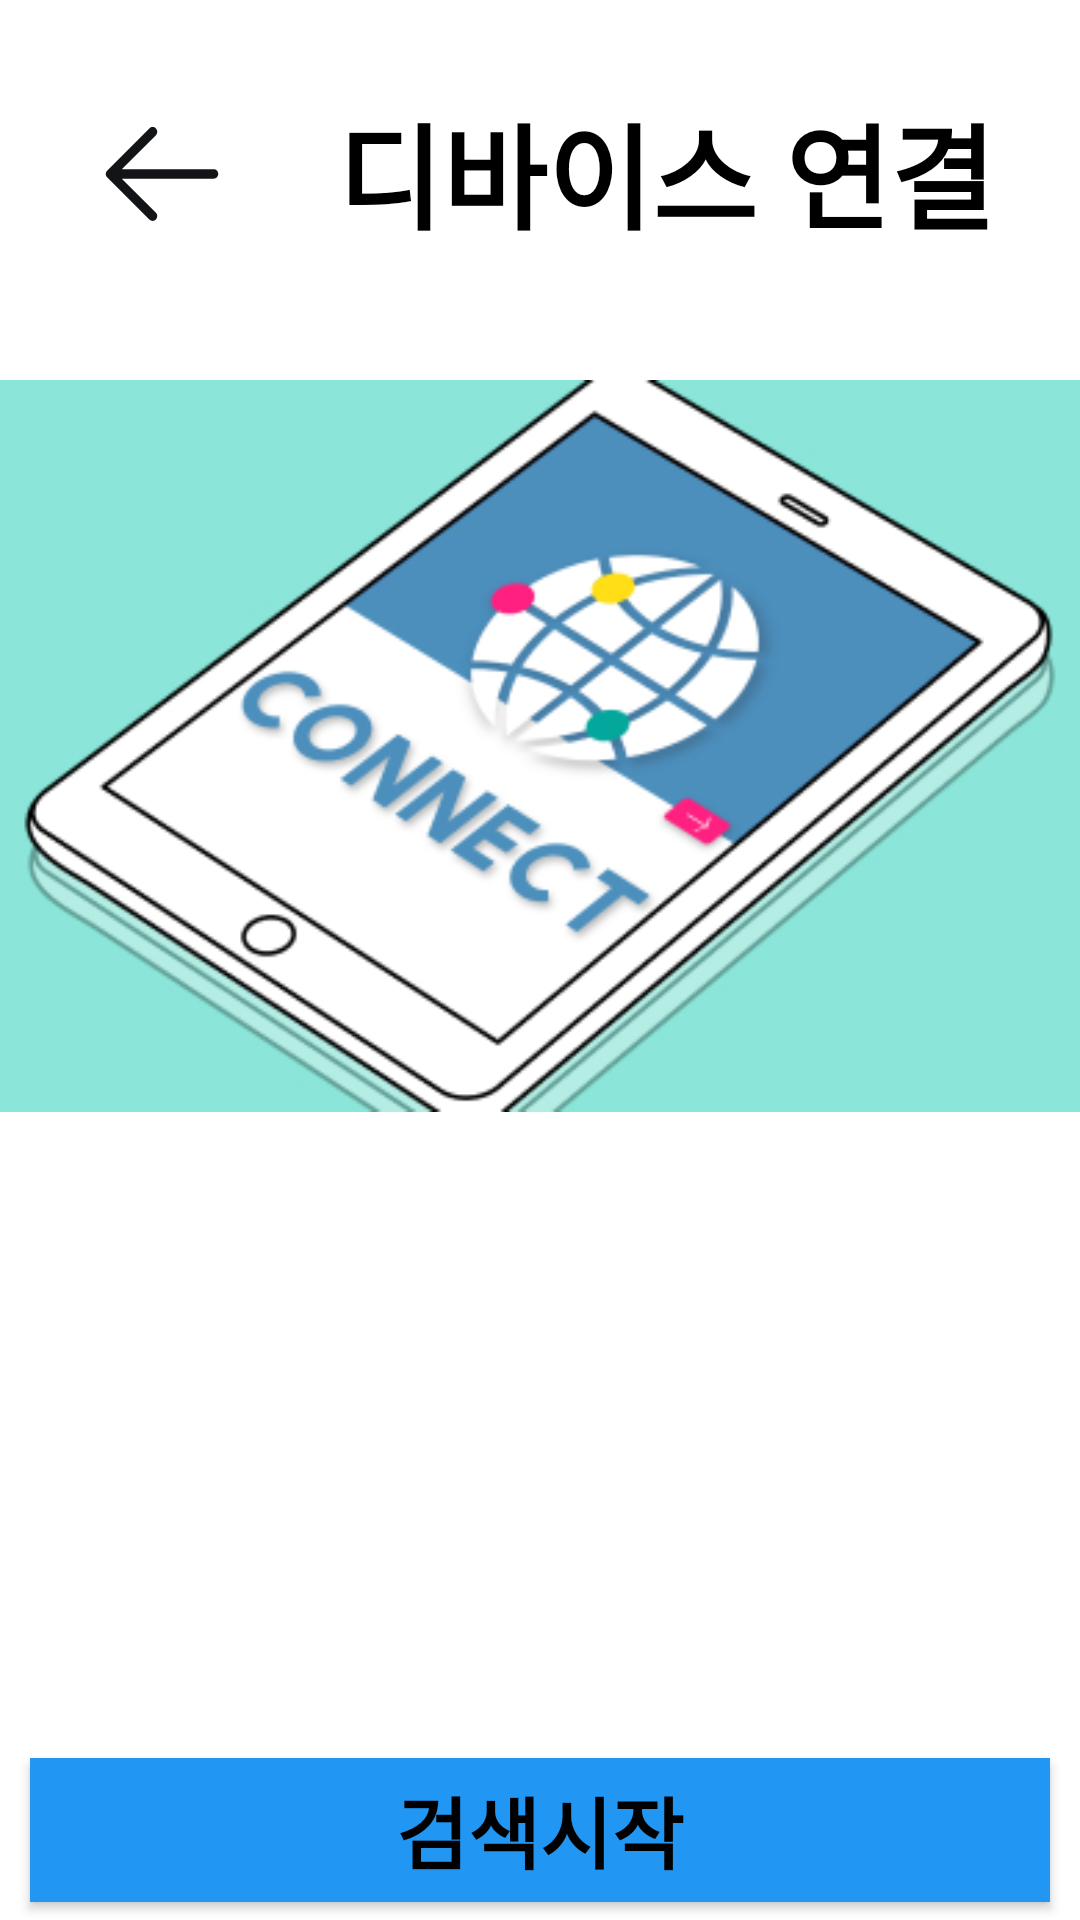

Named icons in this screenshot (1080*1920) and their bounding boxes, (x1, y1, x2, y2):
arrow back: (105, 127, 219, 221)
